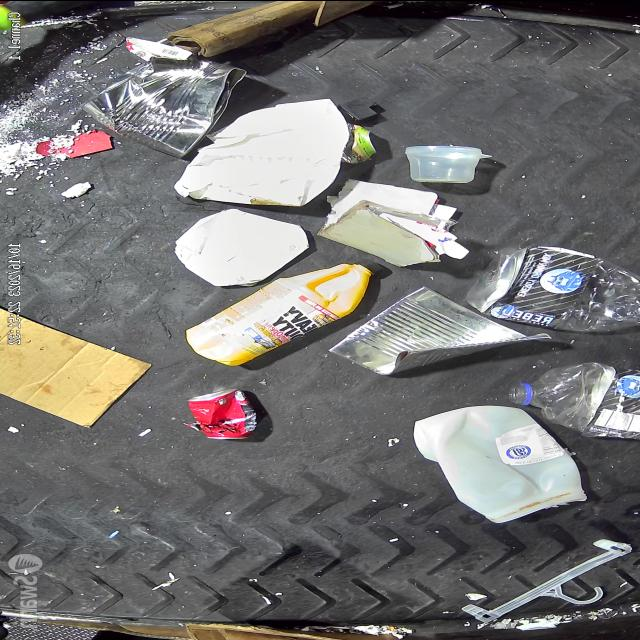can: (80, 54, 247, 158), (185, 387, 256, 439), (346, 127, 376, 163)
milk_jug: (413, 404, 587, 524)
non_white_jug: (182, 258, 382, 362)
plastic_bottle: (463, 246, 640, 333), (508, 362, 640, 440)
